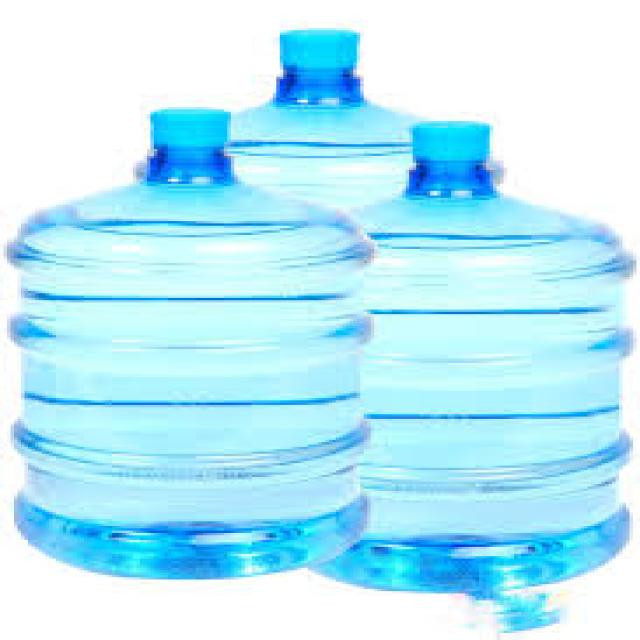Galon: (0, 21, 640, 581)
